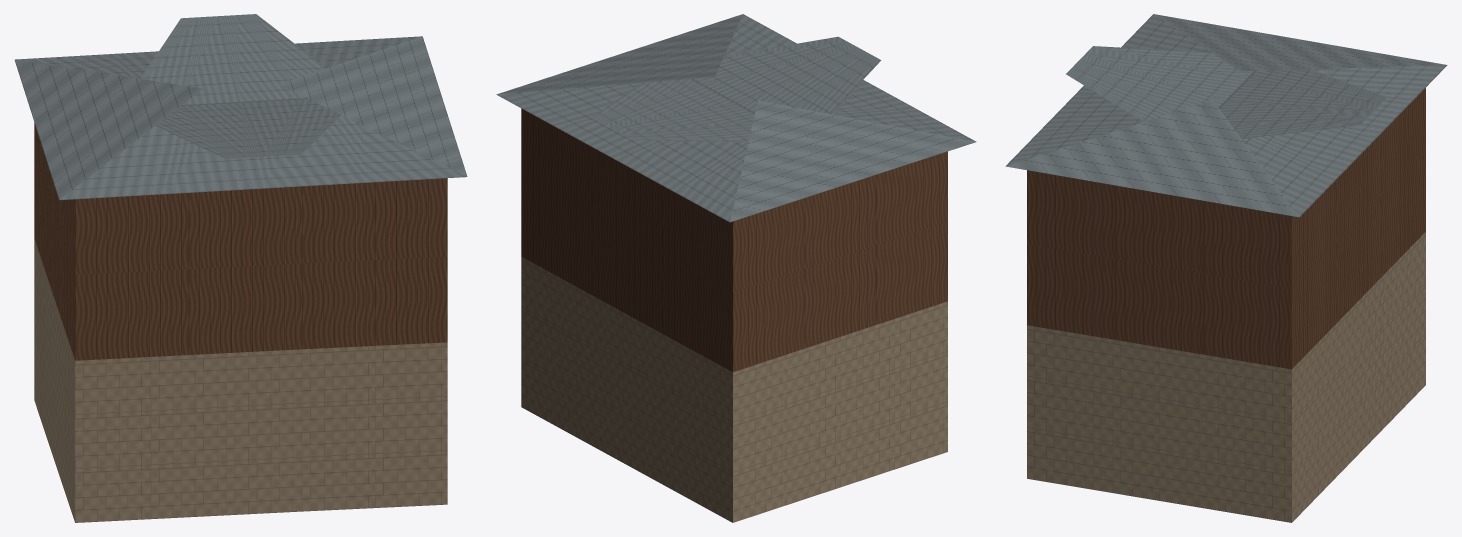
Rendered from bld_c10_7_517.gltf.
3 views of the same model, side by side, from view 1: azimuth 30°, elevation 25°; view 2: azimuth 150°, elevation 25°; view 3: azimuth 270°, elevation 25° (orthographic). The views are drawn at different scales.
Visible parts, largest first — view 1: bld_c10_7_517; view 2: bld_c10_7_517; view 3: bld_c10_7_517.
Part boxes in pixels (x1,y1,x2,y2): bld_c10_7_517: (14, 14, 467, 522); bld_c10_7_517: (496, 14, 976, 522); bld_c10_7_517: (1005, 14, 1447, 522).
Bounding box in the file's own units: 14.5 × 11.5 × 13.32.
3 materials, 3 textured.
